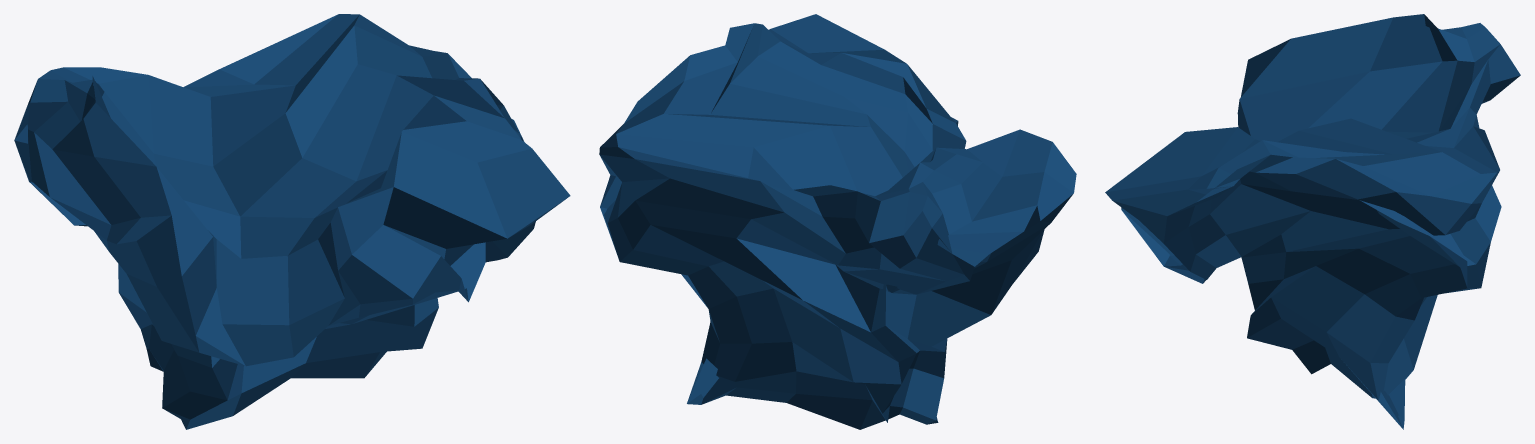
File: rock009.FBX
3 renders of one model, left to right at view 1: azimuth 30°, elevation 25°; view 2: azimuth 150°, elevation 25°; view 3: azimuth 270°, elevation 25°, orthographic. The views are drawn at different scales.
Visible parts, largest first — view 1: rock_009; view 2: rock_009; view 3: rock_009.
Part boxes in pixels (box(x1,y1,x2,y2)): rock_009: box(14, 14, 570, 429); rock_009: box(599, 14, 1076, 429); rock_009: box(1105, 14, 1520, 429).
Size of the model in its own units: 16.11 by 13.2 by 16.6.
Materials: 1 (1 with a texture image).
